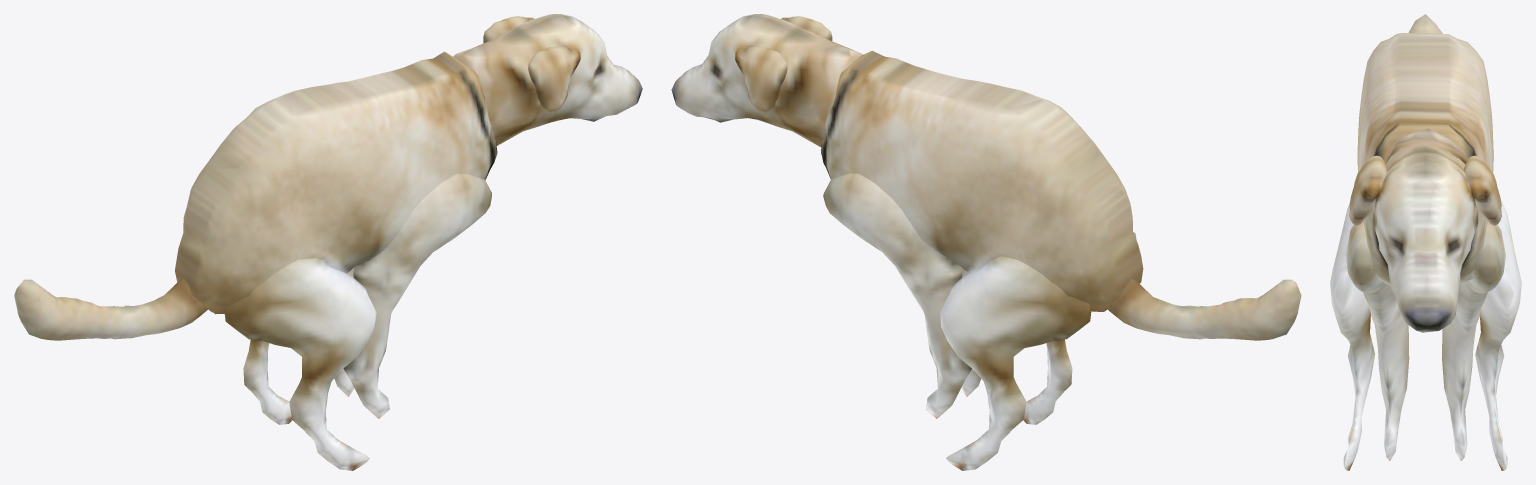
File: dog_pooping.glb
The picture shows the model from 3 angles, left to right: view 1: azimuth 30°, elevation 25°; view 2: azimuth 150°, elevation 25°; view 3: azimuth 270°, elevation 25°; orthographic projection. The views are drawn at different scales.
Parts seen in each view (by area): view 1: model; view 2: model; view 3: model.
Boxes of the visible parts, bbox=[...] form: model: bbox=[14, 14, 642, 470]; model: bbox=[671, 14, 1301, 470]; model: bbox=[1330, 14, 1521, 470].
Bounding box in the file's own units: 1.38 × 0.788 × 0.3091.
1 material, 1 textured.
